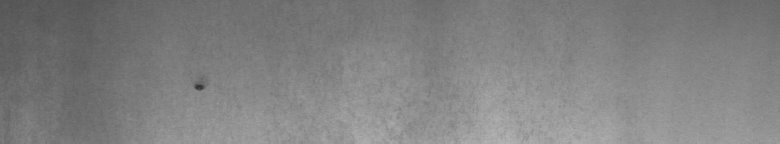fi: (189, 76, 209, 96)
